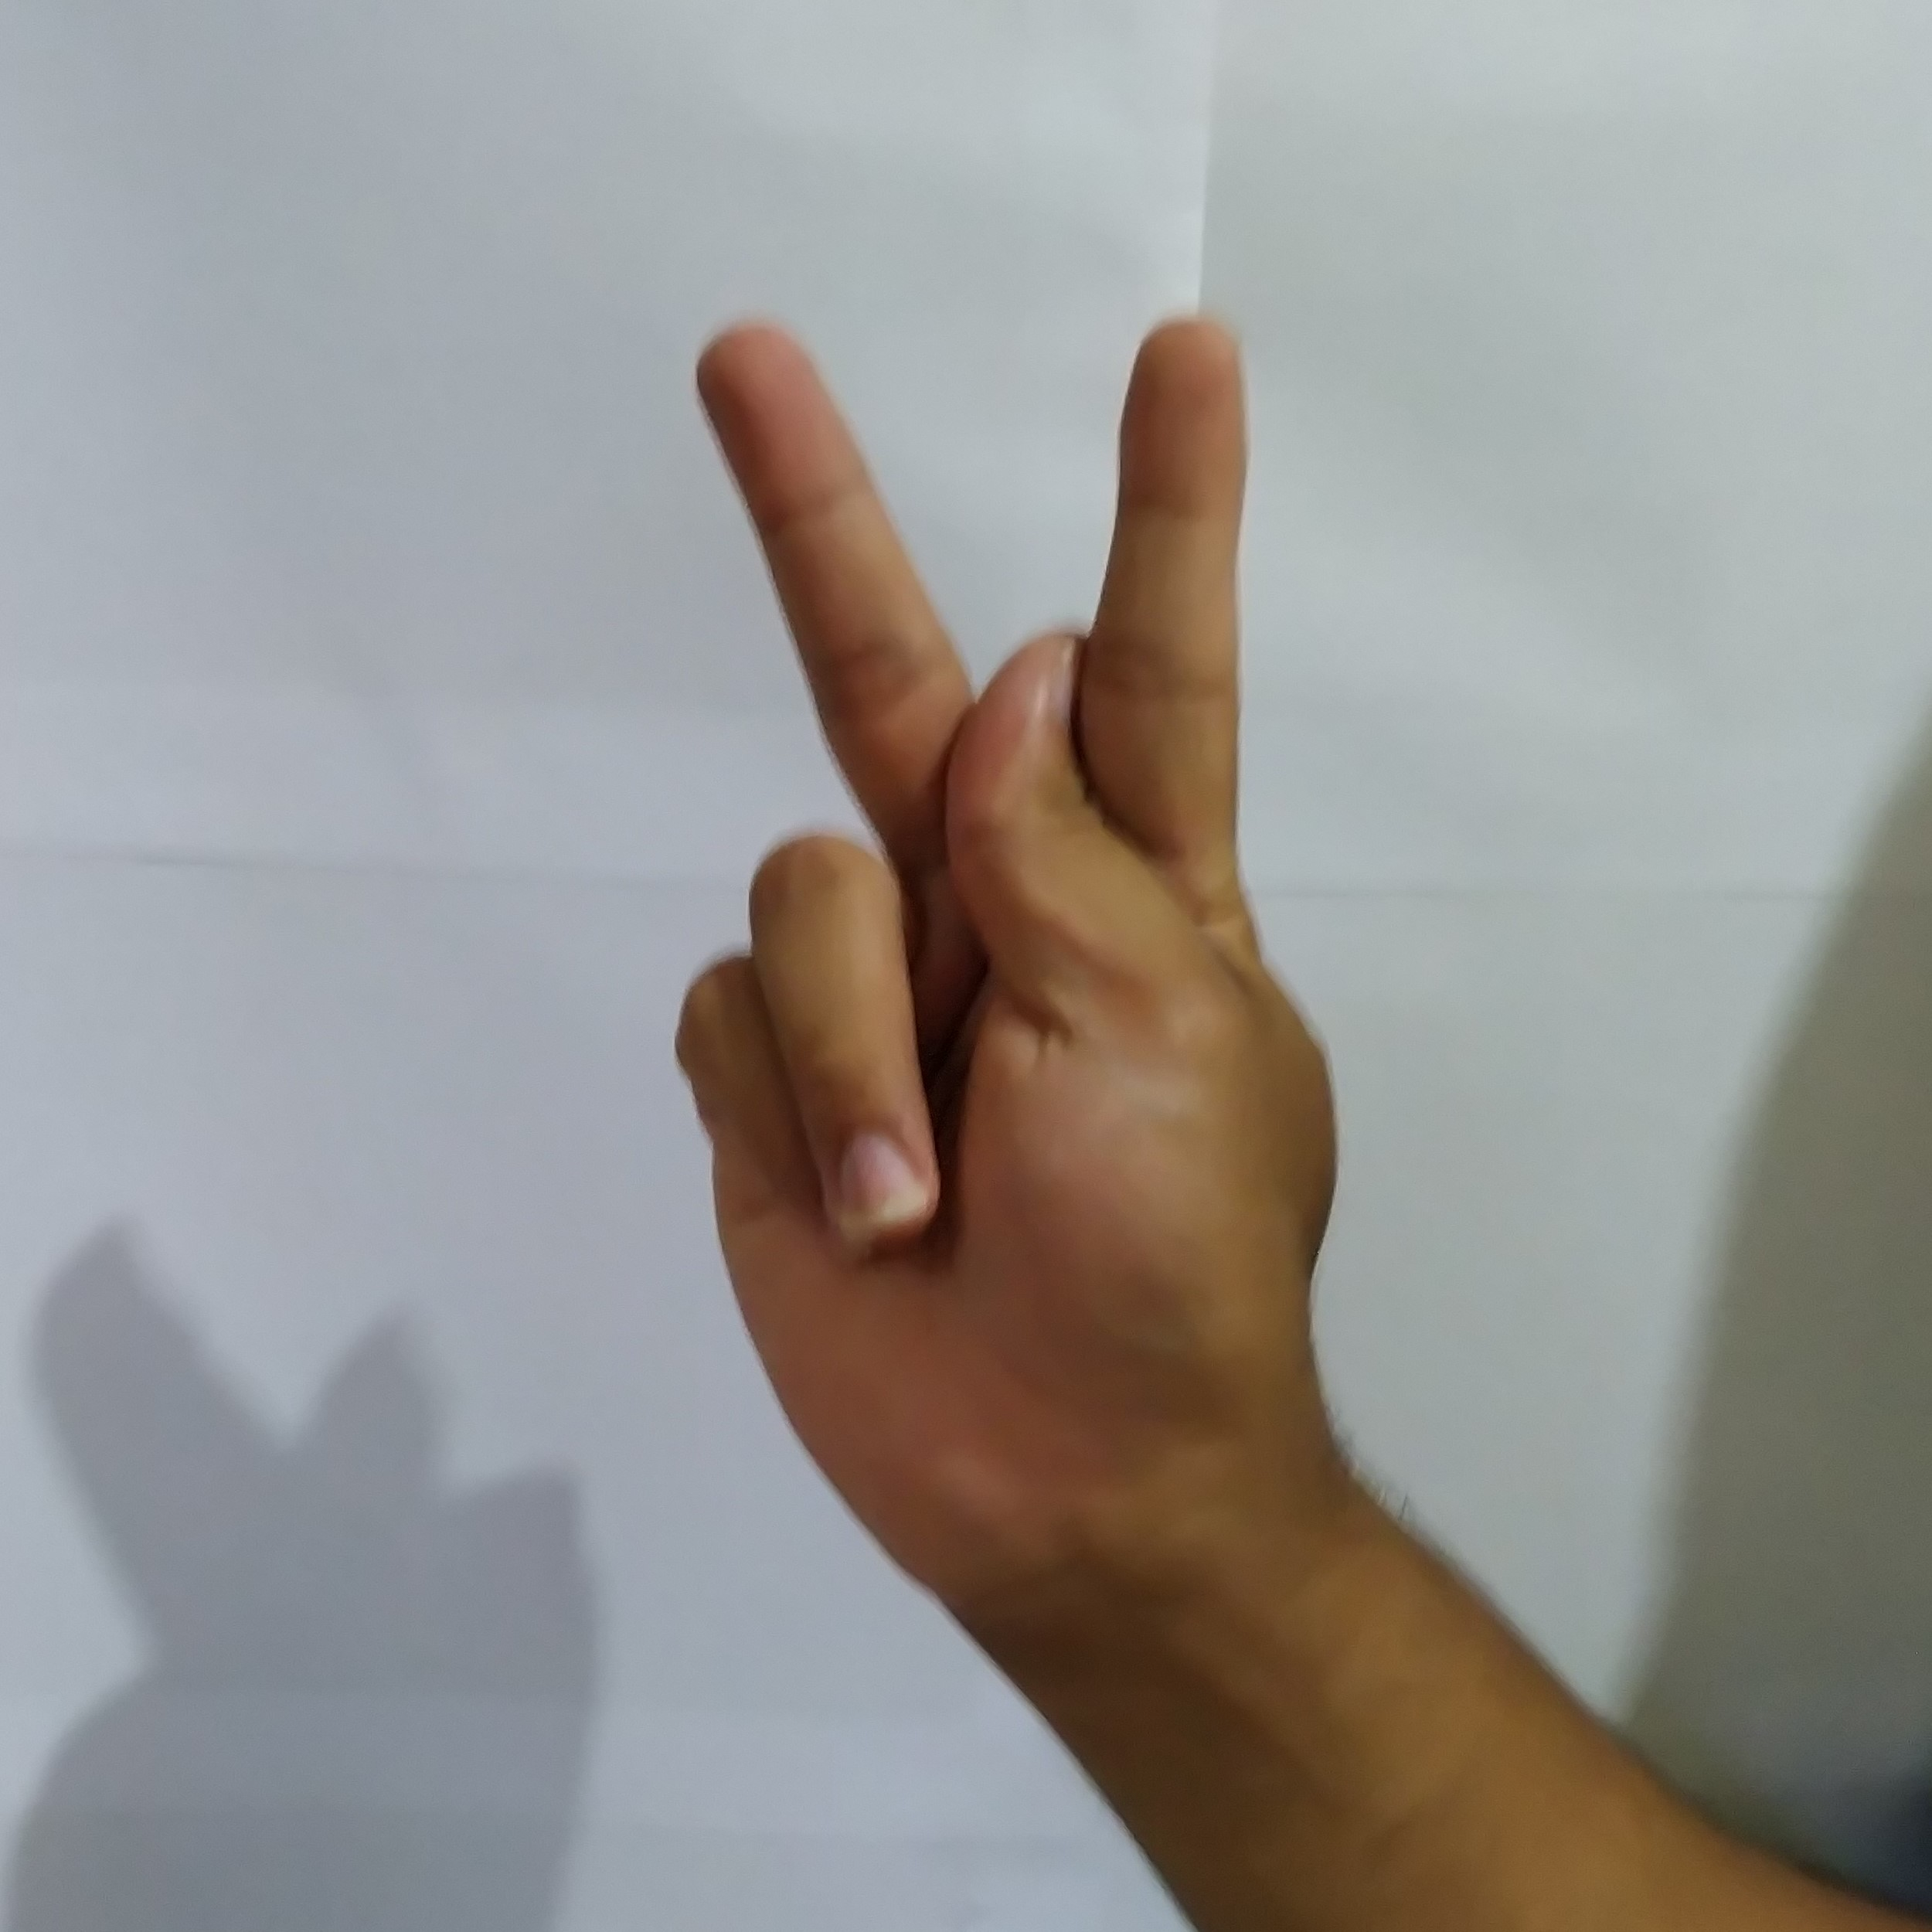K: (637, 285, 1357, 1491)
